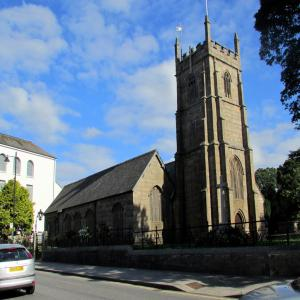Vehicle-registration-plate: (10, 267, 25, 272)
